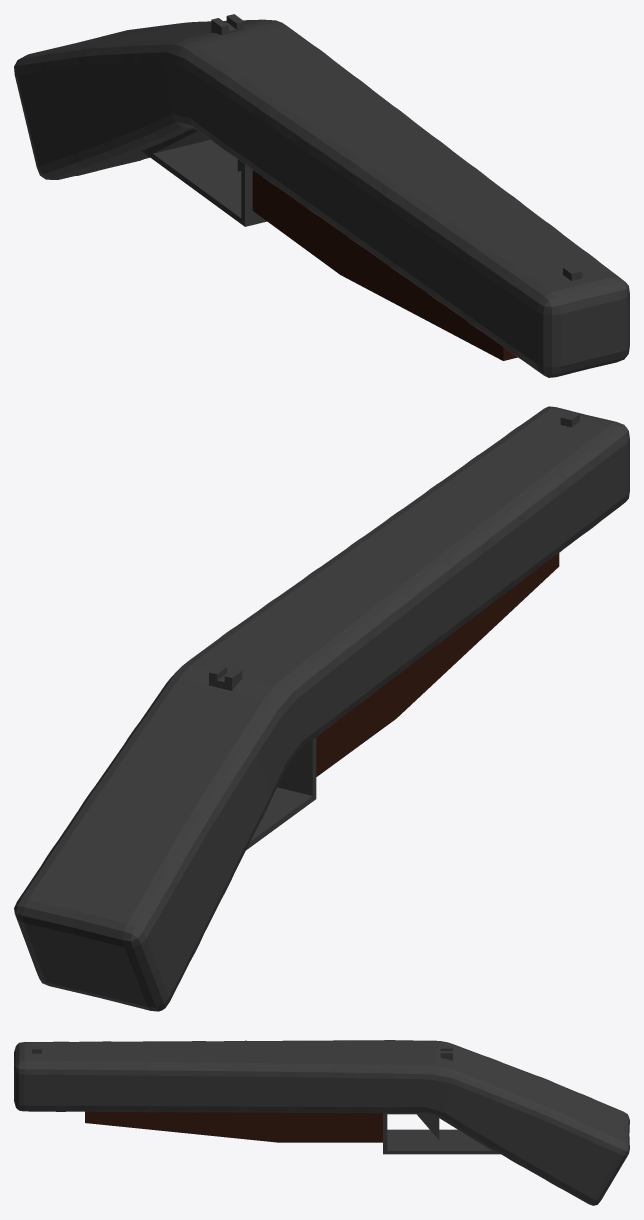
Rendered from ShotgunFull.fbx.
The picture shows the model from 3 angles, top to bottom: view 1: azimuth 30°, elevation 25°; view 2: azimuth 150°, elevation 25°; view 3: azimuth 270°, elevation 25°; orthographic projection. The views are drawn at different scales.
Visible parts, largest first — view 1: Cube; view 2: Cube; view 3: Cube.
Boxes of the visible parts, x1,y1,x2,y2 form: Cube: (14, 14, 629, 377); Cube: (14, 406, 629, 1011); Cube: (14, 1040, 629, 1205).
Bounding box in the file's own units: 0.8632 × 1.51 × 5.91.
